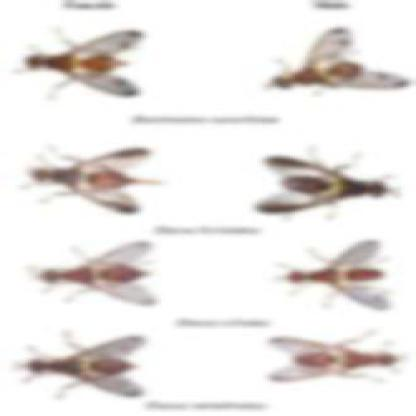fruit fly: (265, 27, 409, 90), (288, 239, 393, 312), (25, 33, 143, 97), (43, 241, 160, 305)
